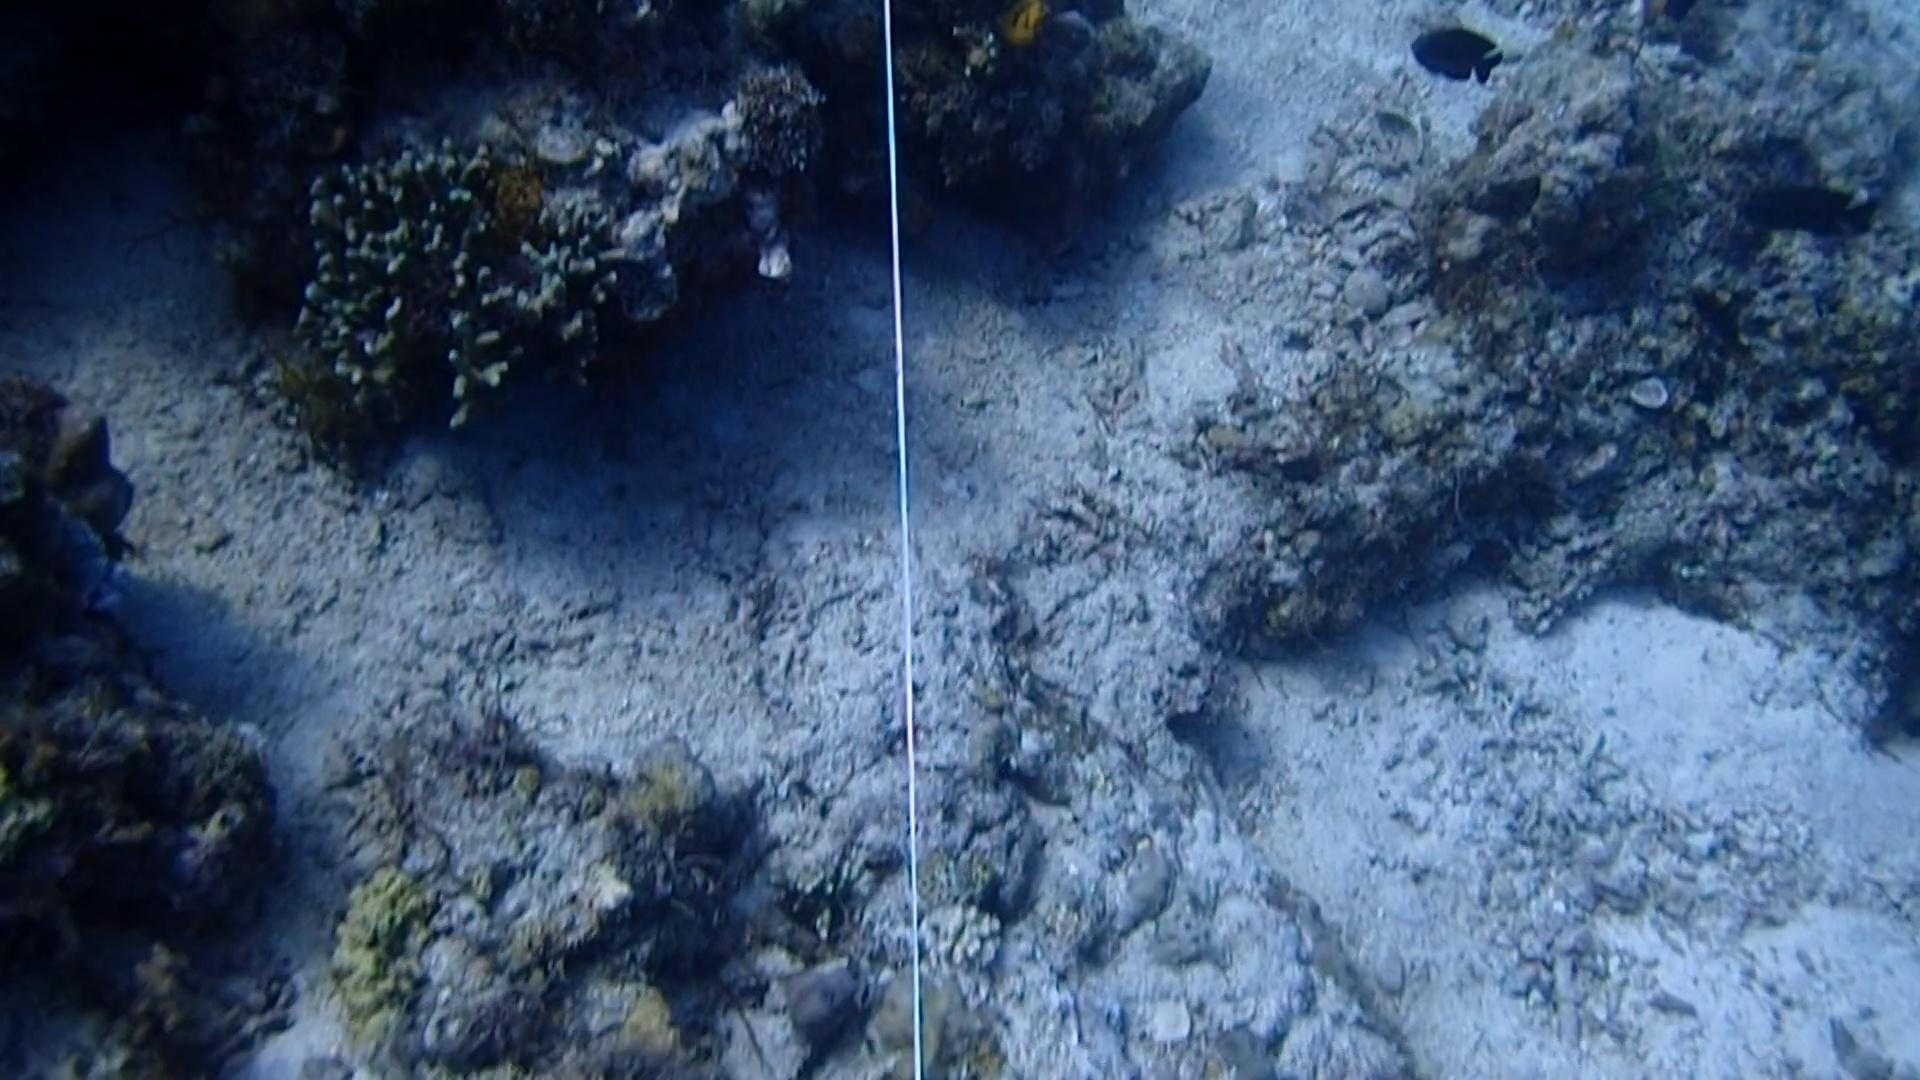Dark Fish: (1741, 164, 1880, 249), (1403, 16, 1509, 84), (1680, 274, 1759, 364)
